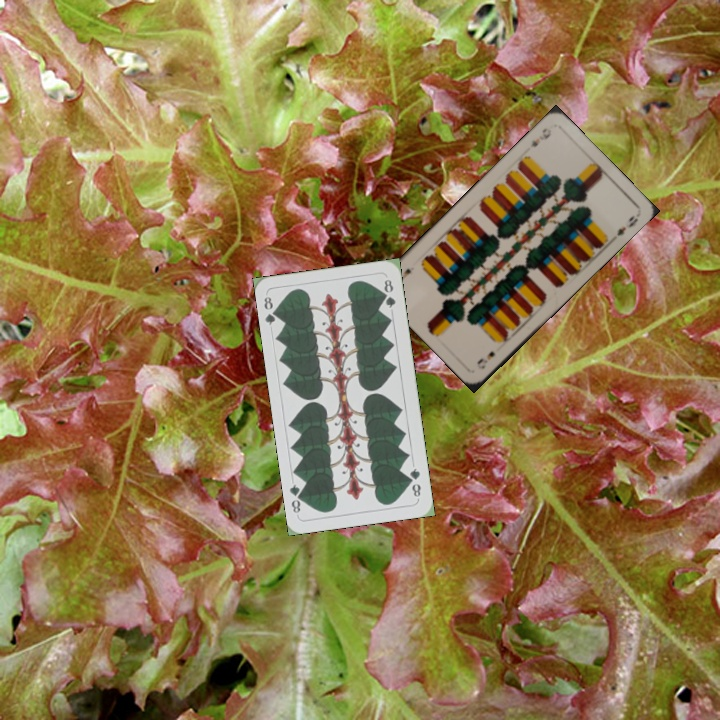E9: (526, 124, 554, 150), (473, 347, 498, 372)
G8: (260, 293, 281, 328), (405, 464, 423, 501)
